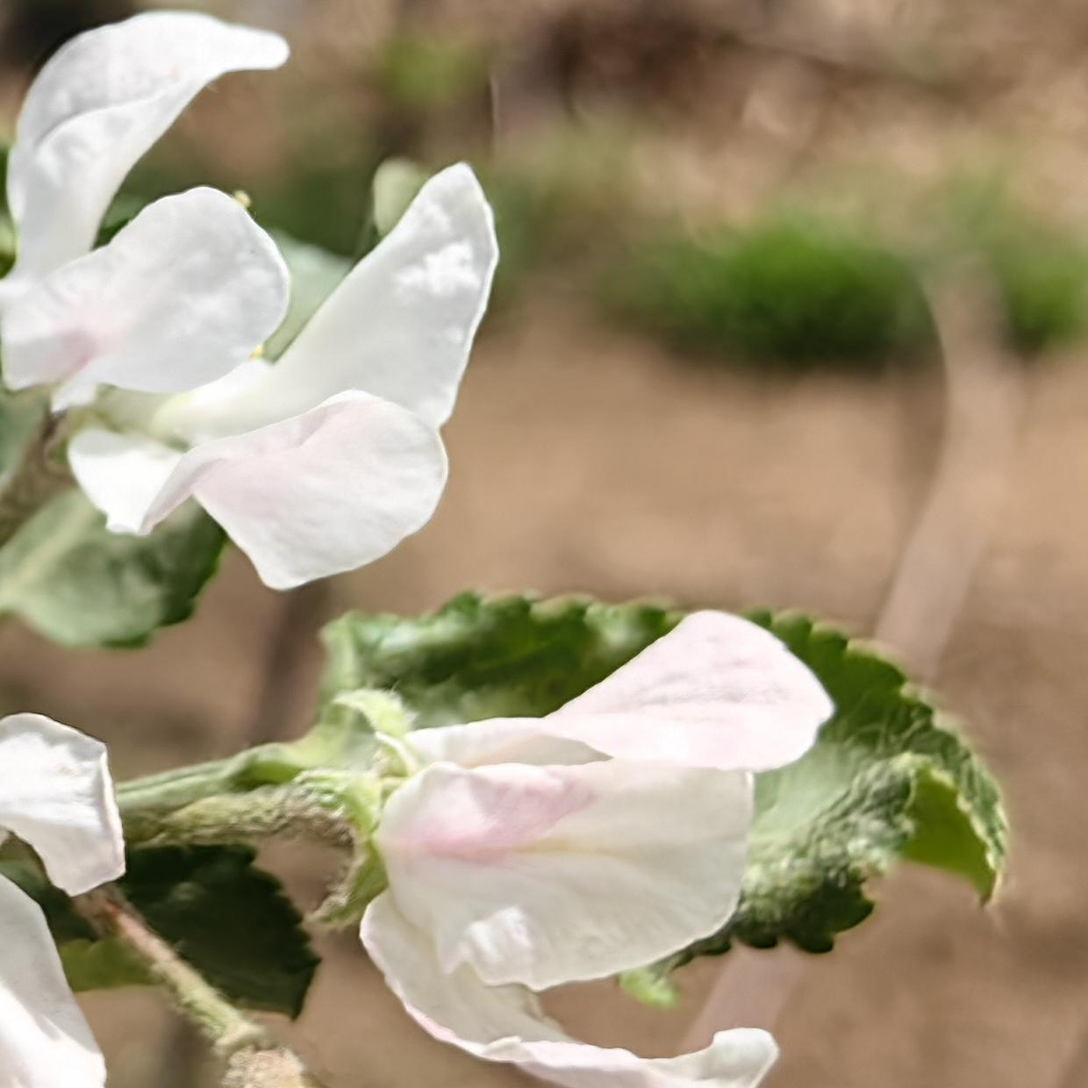apple_flower: (21, 10, 496, 586), (362, 610, 836, 1088)
